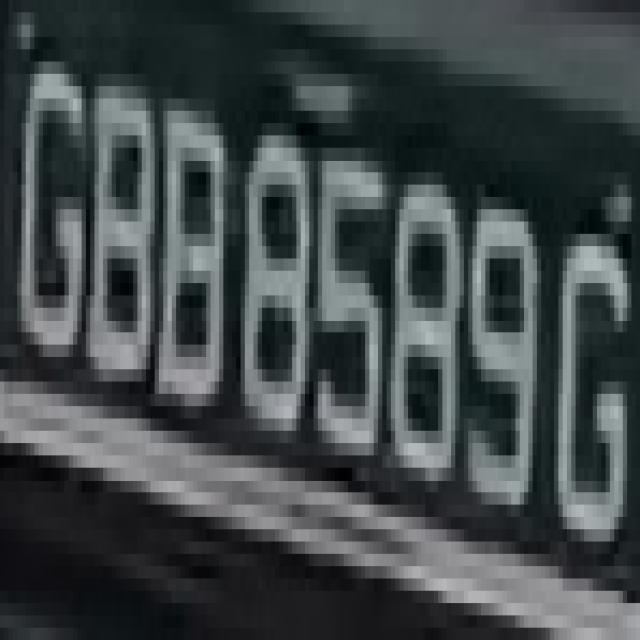5: (313, 86, 391, 492)
8: (236, 74, 314, 468), (391, 123, 459, 542)
9: (460, 172, 541, 517)
B: (159, 74, 228, 492), (82, 74, 159, 431)
G: (550, 160, 640, 578), (17, 0, 90, 406)
